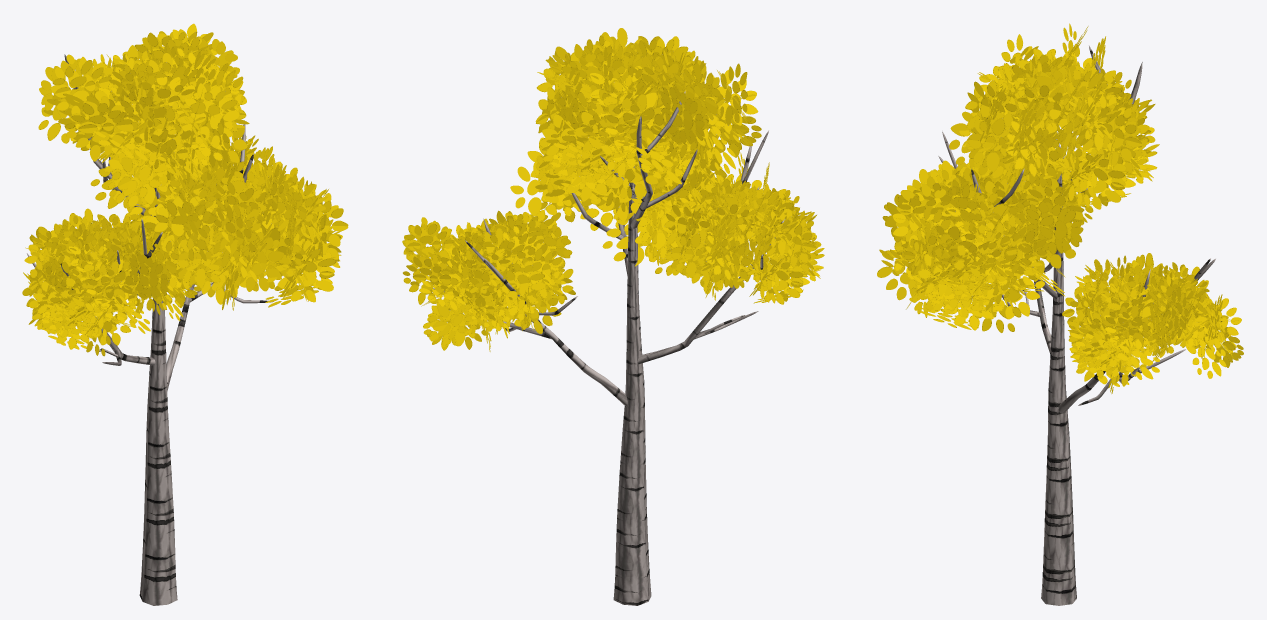
Rendered from BirchTree_5.glb.
The picture shows the model from 3 angles, left to right: view 1: azimuth 30°, elevation 25°; view 2: azimuth 150°, elevation 25°; view 3: azimuth 270°, elevation 25°; orthographic projection. The views are drawn at different scales.
Size of the model in its own units: 3.58 by 5.52 by 3.51.
Materials: 2 (2 with a texture image).
